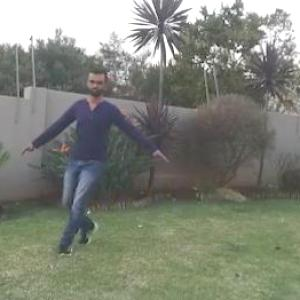land: (30, 68, 172, 241)
